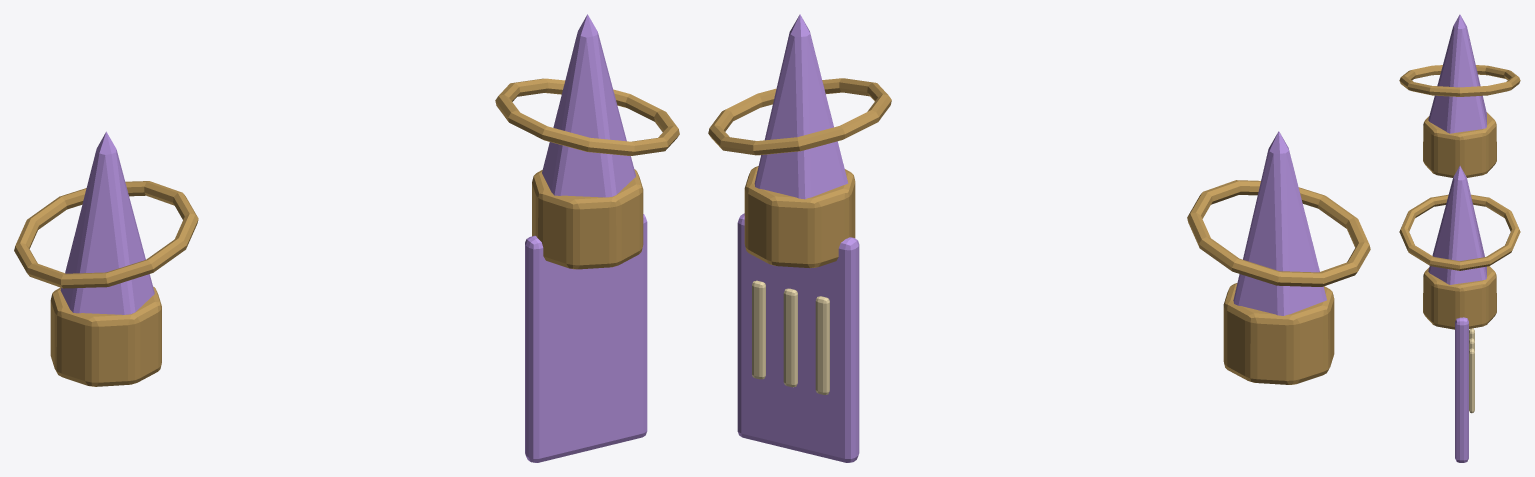
File: upgrade_aether.glb
3 views of the same model, side by side, from view 1: azimuth 30°, elevation 25°; view 2: azimuth 150°, elevation 25°; view 3: azimuth 270°, elevation 25° (orthographic). The views are drawn at different scales.
Visible parts, largest first — view 1: AetherFinial, CrystalSocket; view 2: AetherFinial, CrystalSocket, RankIII; view 3: CrystalSocket, AetherFinial, RankIII.
Boxes of the visible parts, x1,y1,x2,y2 form: AetherFinial: (60,14,647,462); CrystalSocket: (14,78,679,386); AetherFinial: (737,14,1326,462); CrystalSocket: (708,78,1370,384); RankIII: (752,280,829,394); CrystalSocket: (1399,65,1520,329); AetherFinial: (1428,14,1486,462); RankIII: (1469,328,1474,413).
Bounding box in the file's own units: 2.39 × 1.56 × 0.6095.
